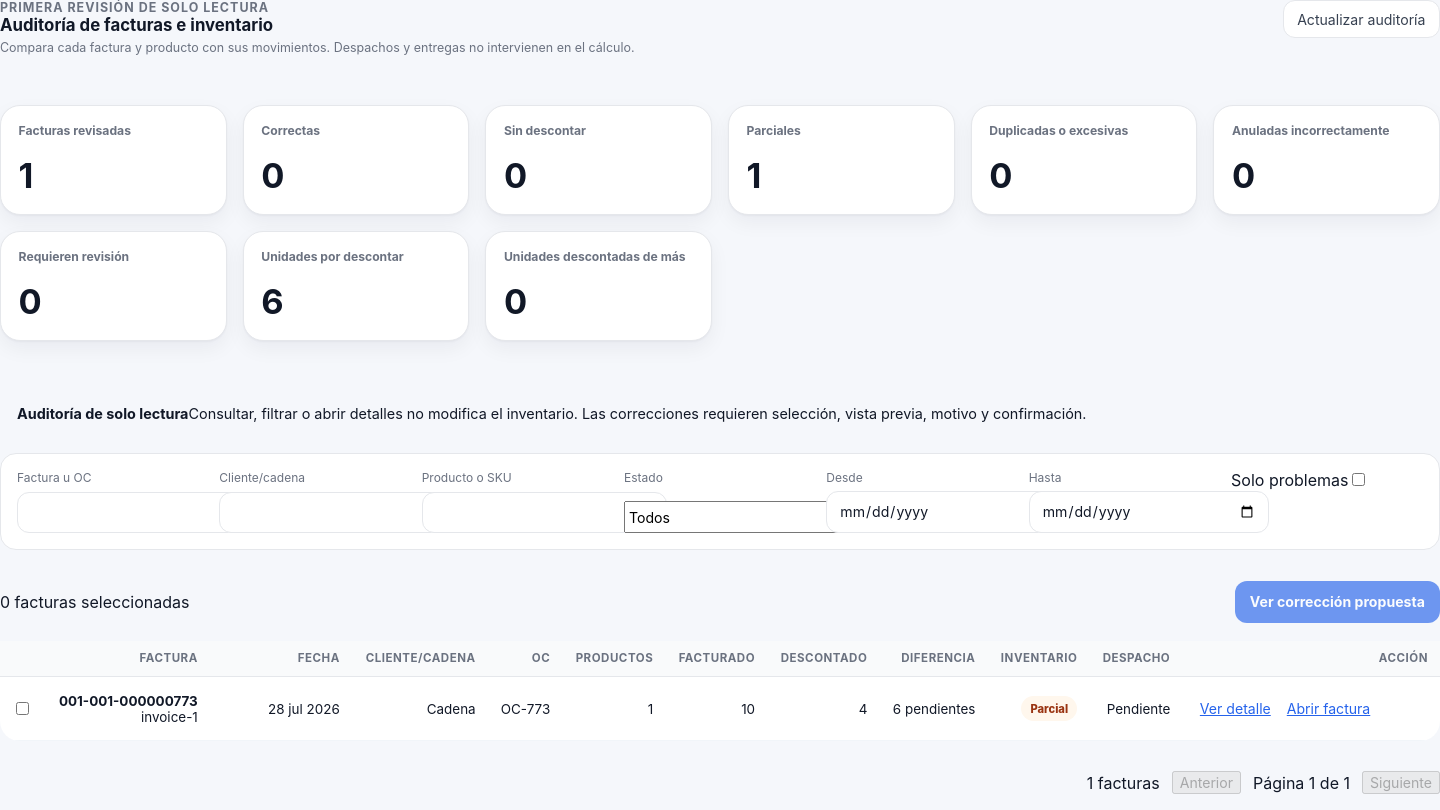
it: InvoiceInventoryAudit › exige selección, vista previa y motivo antes de corregir
The width and height of the screenshot is (1440, 810).
Click the checkbox named "Seleccionar 001-001-000000773": (22, 709) [16, 702, 29, 715]
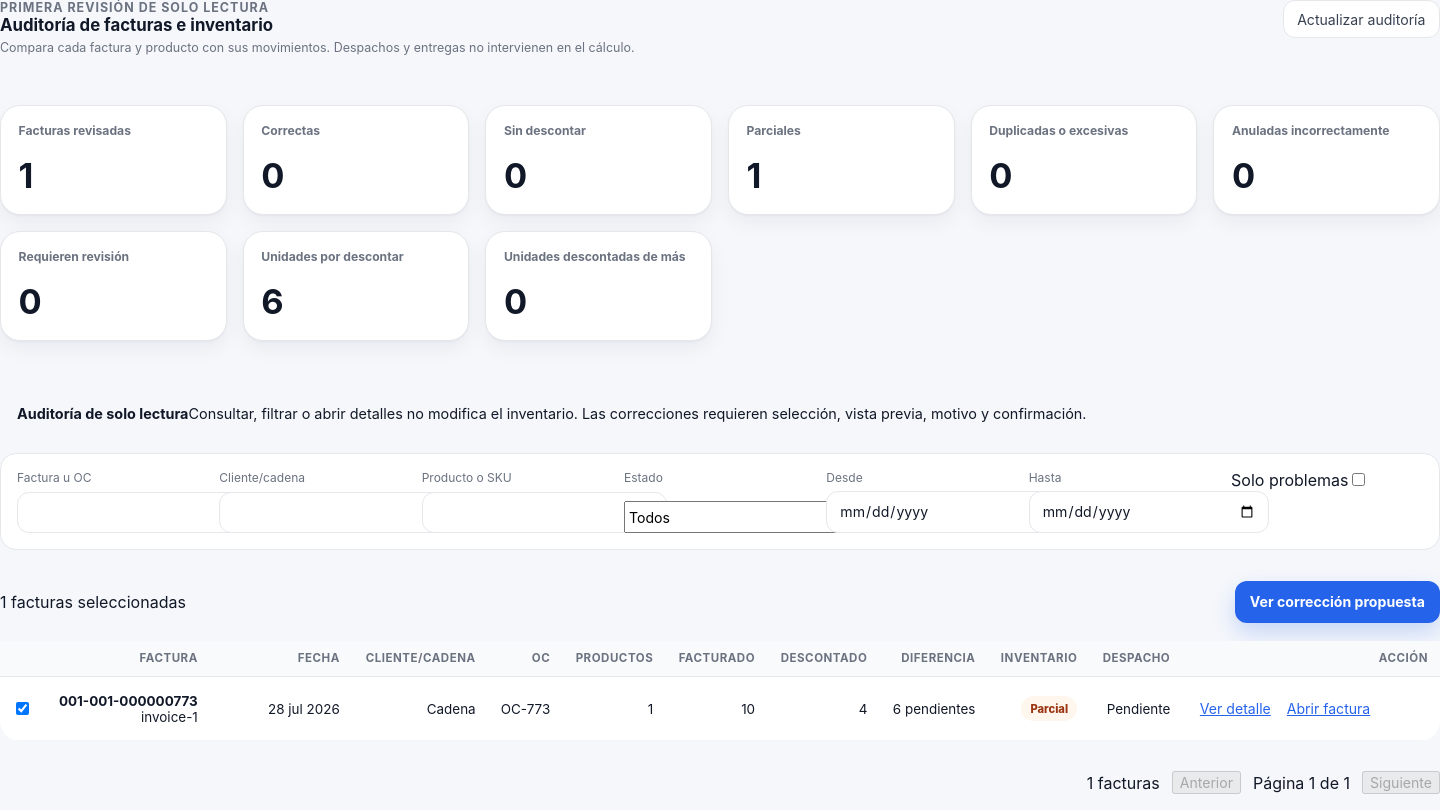
Click the button "Ver corrección propuesta": (1337, 602) [1235, 581, 1439, 623]
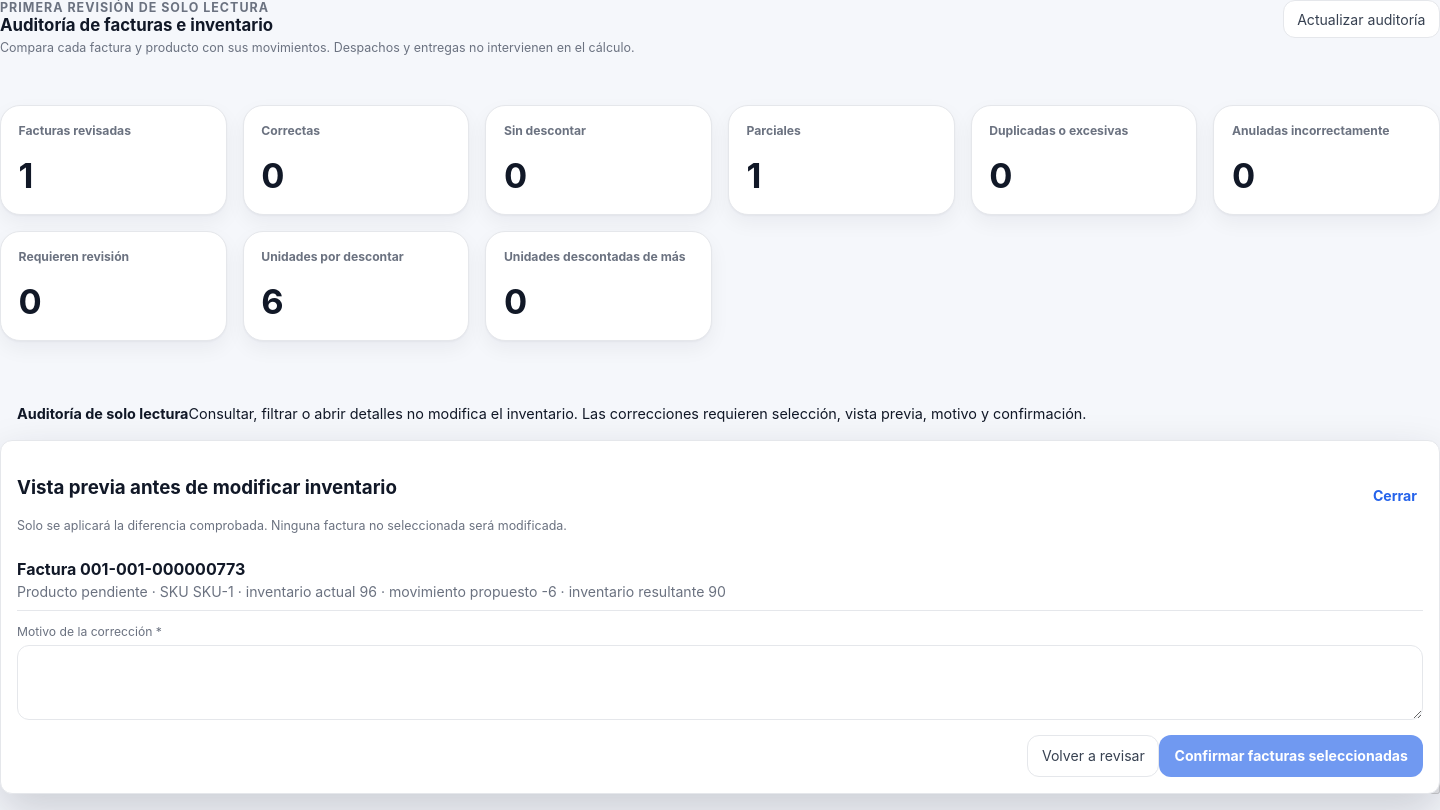
Expected: the text "inventario actual 96 · movimiento propuesto -6 · inventario resultante 90" is shown, [17, 583, 726, 600]
Expected: the button "Confirmar facturas seleccionadas" is disabled, [1159, 735, 1423, 777]
In the text box: (720, 683) [17, 645, 1423, 721], type "Completar diferencia auditada"
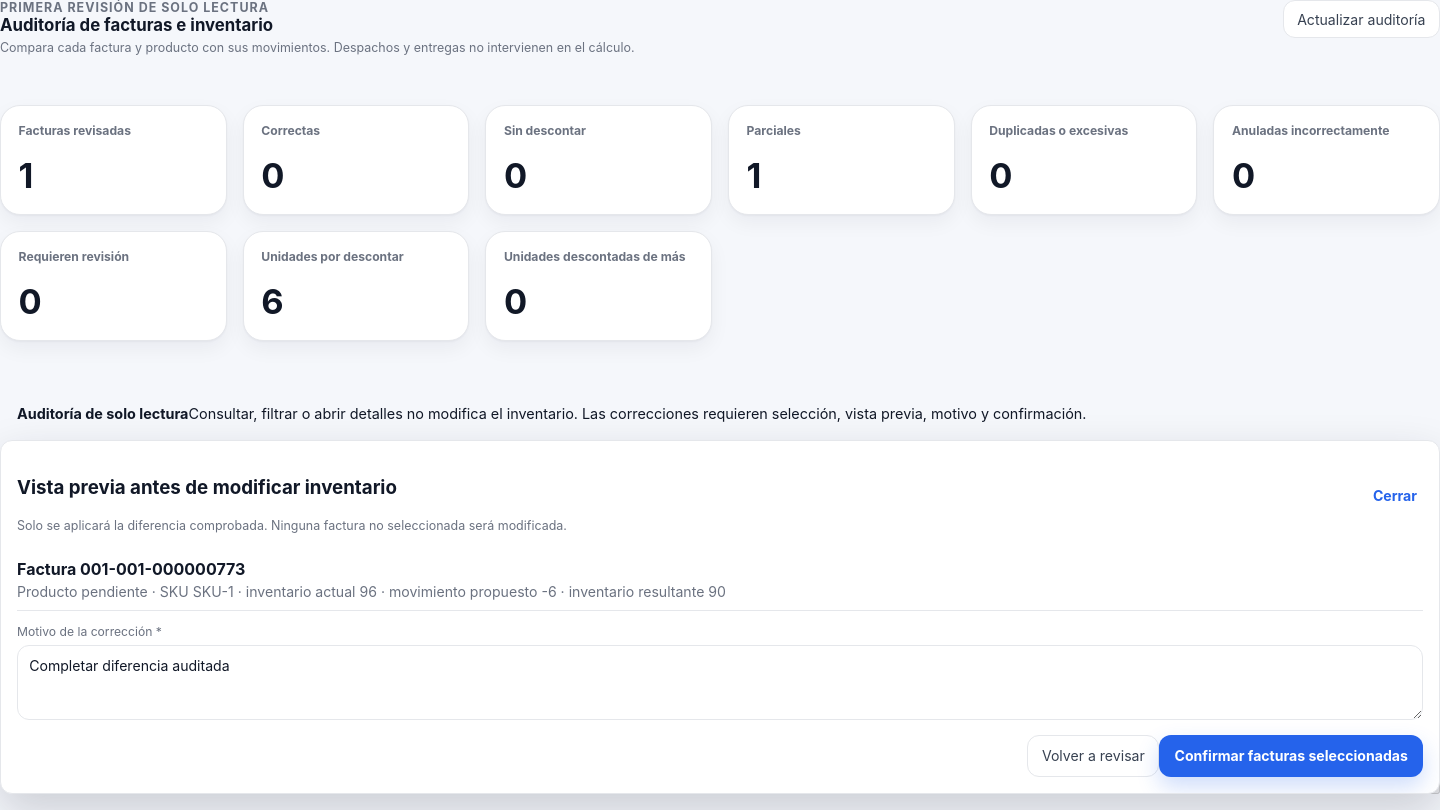
Click the button "Confirmar facturas seleccionadas": (1291, 756) [1159, 735, 1423, 777]
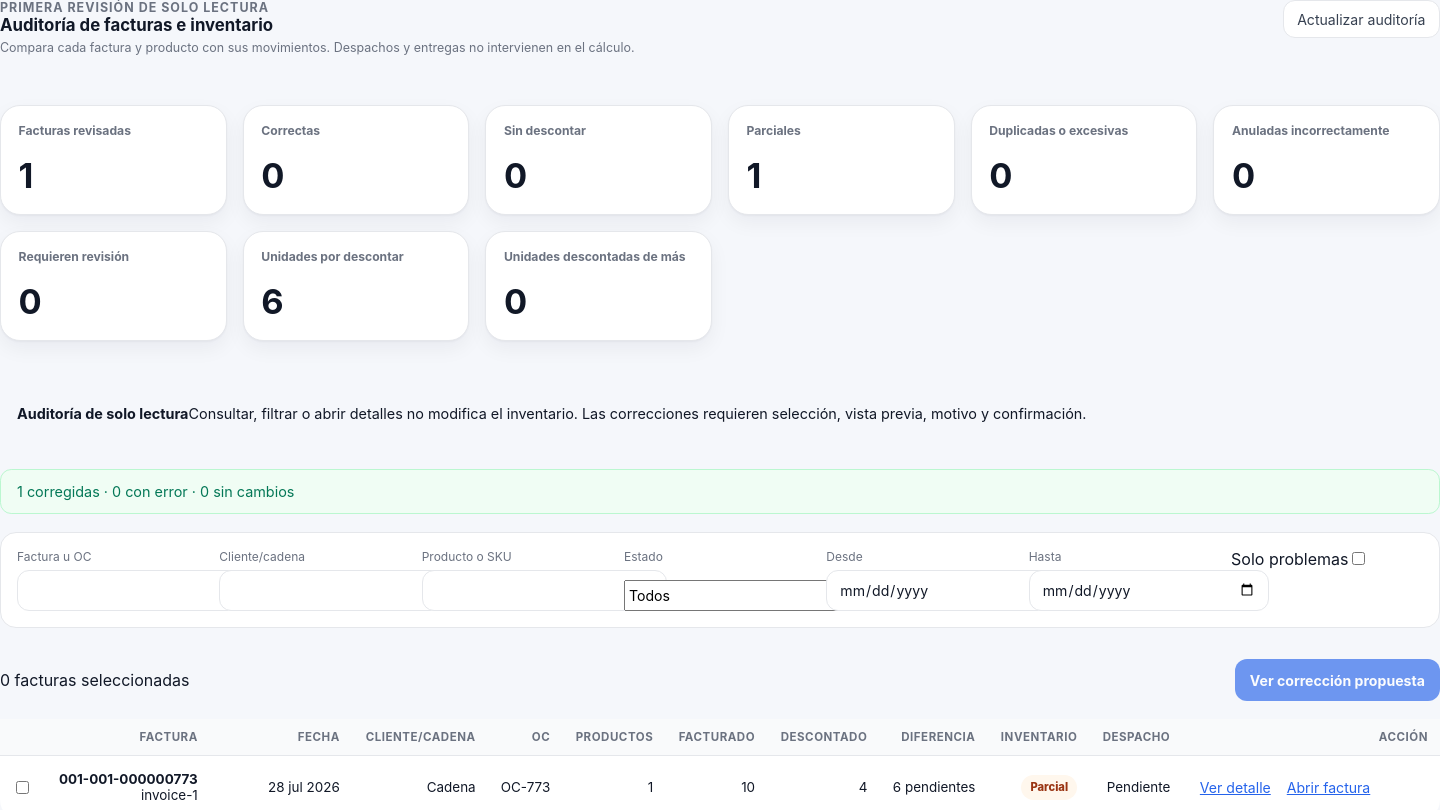
Expected: the text "1 corregidas · 0 con error · 0 sin cambios" is shown, [0, 469, 1439, 514]
